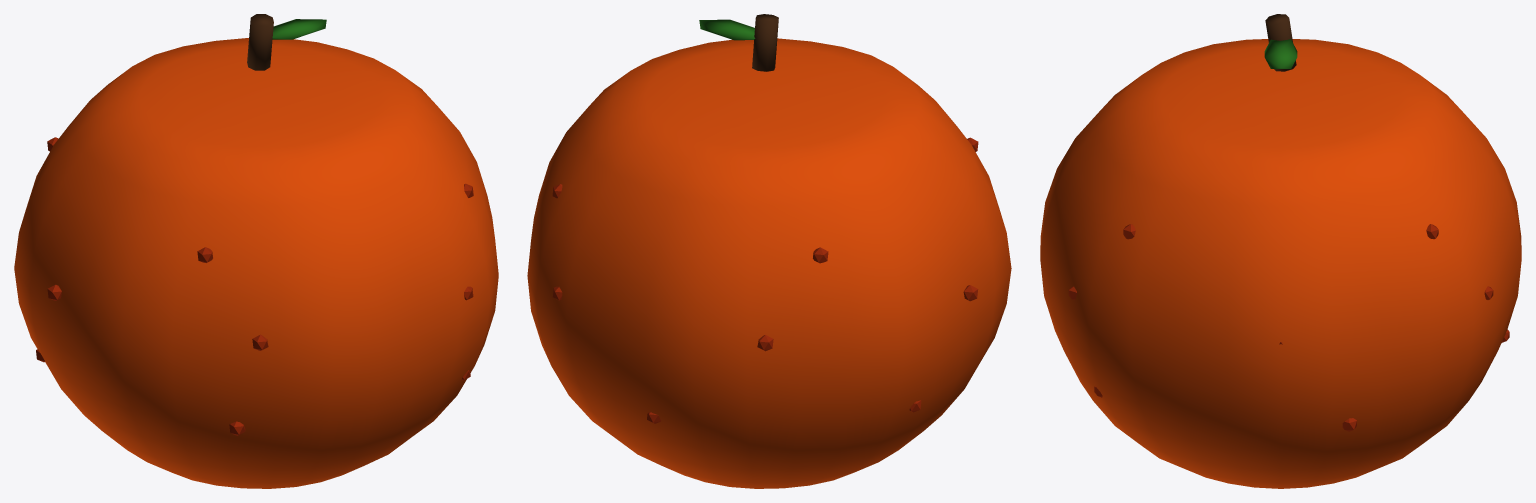
File: orange.fbx
The picture shows the model from 3 angles, left to right: view 1: azimuth 30°, elevation 25°; view 2: azimuth 150°, elevation 25°; view 3: azimuth 270°, elevation 25°; orthographic projection.
Parts seen in each view (by area): view 1: orange; view 2: orange; view 3: orange.
Part boxes in pixels (bbox=[...]): orange: bbox=[14, 14, 498, 488]; orange: bbox=[527, 14, 1011, 488]; orange: bbox=[1040, 14, 1521, 488].
Bounding box in the file's own units: 99.34 × 100 × 97.38.
1 material, 1 textured.
